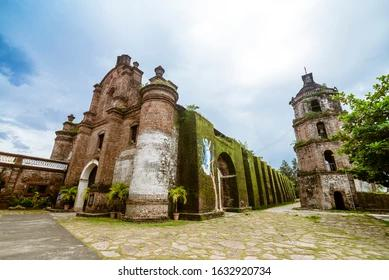Sta. Maria Church: (51, 47, 174, 219)
Unfinished Paint: (111, 128, 175, 199)
